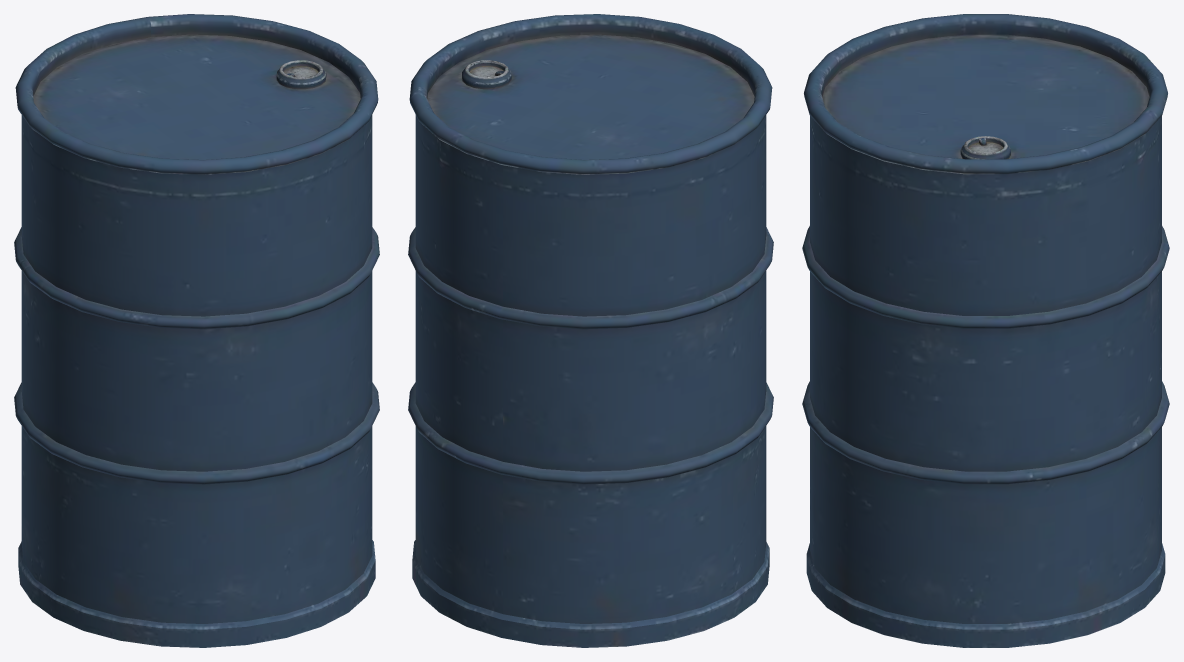
Rendered from barrel_03.glb.
The picture shows the model from 3 angles, left to right: view 1: azimuth 30°, elevation 25°; view 2: azimuth 150°, elevation 25°; view 3: azimuth 270°, elevation 25°; orthographic projection.
Visible parts, largest first — view 1: barrel_03; view 2: barrel_03; view 3: barrel_03.
Part boxes in pixels (x1=…): barrel_03: x1=14, y1=14, x2=379, y2=647; barrel_03: x1=408, y1=14, x2=773, y2=647; barrel_03: x1=802, y1=14, x2=1169, y2=647.
Size of the model in its own units: 0.634 by 0.9305 by 0.6386.
Materials: 1 (1 with a texture image).
